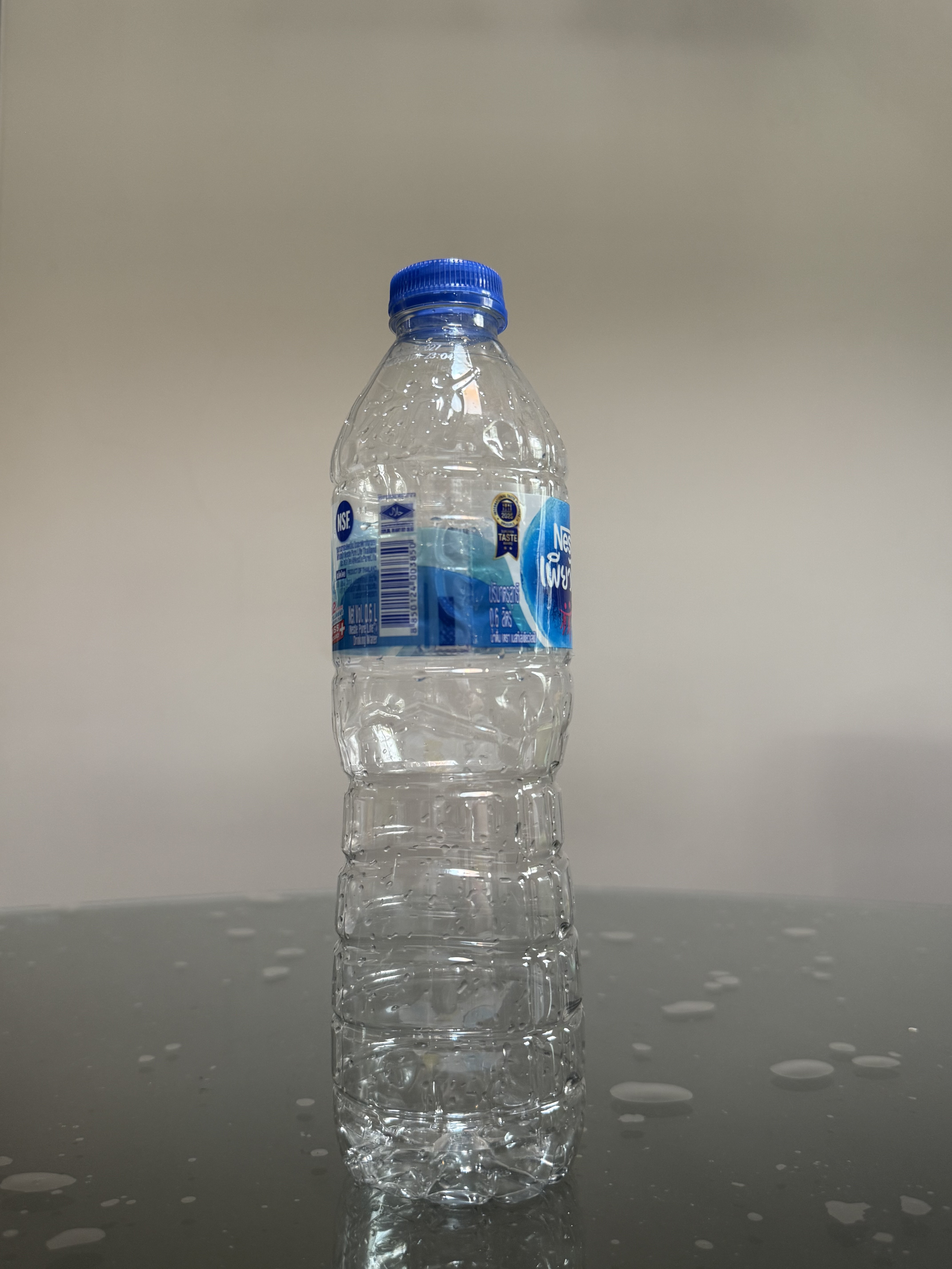closed_cap: (385, 255, 509, 334)
